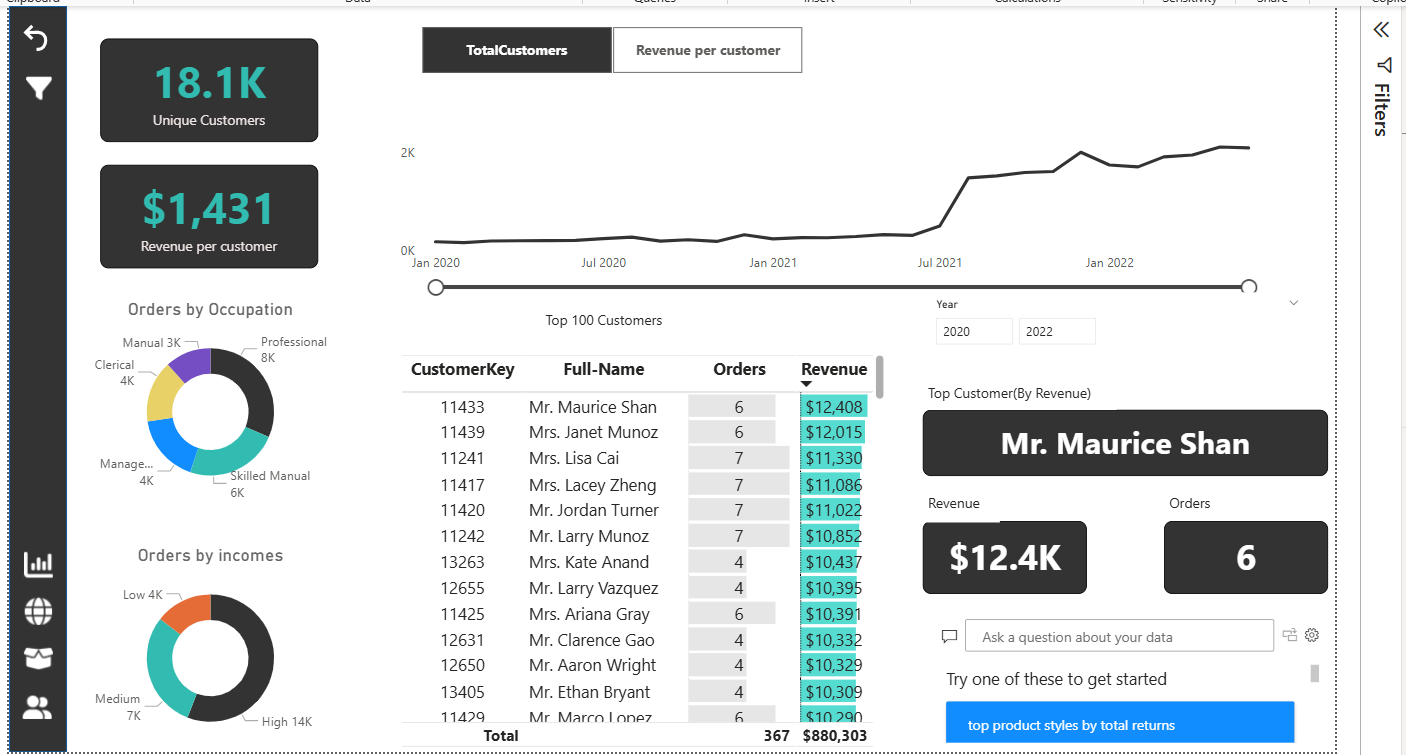

Layout of this report page (visuals, bound fields, positions):
{"tool":"powerbi","page":{"name":"Customer-Detail Dashboard","canvas":[1280,720],"ordinal":3},"visuals":[{"type":"tableEx","fields":{"Values":["Customer Lookup.CustomerKey","Customer Lookup.Full-Name","Table.TotalOrders","Table.Total Revenue"]},"box":[372.9,331.4,477.1,388.6],"z":0},{"type":"card","fields":{"Values":["Table.Top Customer"]},"box":[881.4,390,391.4,64.3],"z":0,"group":"g2"},{"type":"actionButton","title":"Dashboard Icon","box":[0,520.8,56.8,36.3],"z":0,"group":"g1"},{"type":"card","fields":{"Values":["Table.Top Customer Revenue"]},"box":[881.4,497.1,158.6,70],"z":1000,"group":"g2"},{"type":"donutChart","title":"Orders by incomes","fields":{"Y":["Table.TotalOrders"],"Category":["Customer Lookup.category incomes"]},"box":[75.7,520,237.1,200],"z":1000},{"type":"actionButton","title":"Map Icon","box":[0,567.1,56.8,34.7],"z":1000,"group":"g1"},{"type":"donutChart","title":"Orders by Occupation","fields":{"Y":["Table.TotalOrders"],"Category":["Customer Lookup.Occupation"]},"box":[75.7,282.9,237.1,200],"z":2000},{"type":"card","fields":{"Values":["Table.Top Customer Orders"]},"box":[1114.3,497.1,158.6,70],"z":2000,"group":"g2"},{"type":"actionButton","title":"Costomer Icon","box":[1.6,658.1,52.1,36.3],"z":2000,"group":"g1"},{"type":"actionButton","box":[0,0,100,40],"z":3000},{"type":"textbox","box":[881.4,360,187.1,30],"z":3000,"group":"g2"},{"type":"actionButton","title":"product icon","box":[0,611.8,56.8,36.3],"z":3000,"group":"g1"},{"type":"card","fields":{"Values":["Table.Revenue per customer"]},"box":[88.6,152.9,210,100],"z":4000},{"type":"textbox","box":[1114.3,465.7,94.3,31.4],"z":4000,"group":"g2"},{"type":"card","fields":{"Values":["Table.Unique Customers"]},"box":[88.6,31.4,210,100],"z":5000},{"type":"textbox","box":[881.4,465.7,74.3,32.9],"z":5000,"group":"g2"},{"type":"slicer","fields":{"Values":["Customer Metrics Parameter.Customer Metrics Parameter"]},"box":[372.9,12.9,417.1,58.6],"z":6000},{"type":"lineChart","fields":{"Y":["Table.TotalCustomers"],"Category":["Calendar Lookup.StartOfMonth"]},"box":[372.9,80,852.9,202.9],"z":7000},{"type":"shape","title":"Side Bar","box":[-0.4,0,56.3,720.4],"z":8000},{"type":"group","id":"g1","title":"Icons","box":[0,520.8,56.8,173.6],"z":9000},{"type":"actionButton","box":[8.2,13.2,47.8,34.6],"z":10000},{"type":"actionButton","title":"Filter Icon","box":[6.3,63,45.8,33.3],"z":11000},{"type":"qnaVisual","box":[891.4,567.1,381.4,152.9],"z":12000},{"type":"group","id":"g2","title":"Group 1","box":[881.4,360,391.4,207.1],"z":13000},{"type":"textbox","box":[512.9,288.6,137.1,30],"z":14000},{"type":"slicer","fields":{"Values":["Calendar Lookup.Year"]},"box":[881.4,275.7,375.7,84.3],"z":15000}]}

Visuals, with their boxes on the page's 1280x720 design canvas (x1, y1, x2, y2). These are canvas units, not pixel positions in the 1406x755 screenshot, which may show the page scaled, cropped or inside an application window:
tableEx - Customer Lookup.CustomerKey x Customer Lookup.Full-Name: [373,331,850,720]
card - Table.Top Customer: [881,390,1273,454]
"Dashboard Icon" actionButton: [0,521,57,557]
card - Table.Top Customer Revenue: [881,497,1040,567]
"Orders by incomes" donutChart: [76,520,313,720]
"Map Icon" actionButton: [0,567,57,602]
"Orders by Occupation" donutChart: [76,283,313,483]
card - Table.Top Customer Orders: [1114,497,1273,567]
"Costomer Icon" actionButton: [2,658,54,694]
actionButton: [0,0,100,40]
textbox: [881,360,1068,390]
"product icon" actionButton: [0,612,57,648]
card - Table.Revenue per customer: [89,153,299,253]
textbox: [1114,466,1209,497]
card - Table.Unique Customers: [89,31,299,131]
textbox: [881,466,956,499]
slicer - Customer Metrics Parameter.Customer Metrics Parameter: [373,13,790,72]
lineChart - Table.TotalCustomers x Calendar Lookup.StartOfMonth: [373,80,1226,283]
"Side Bar" shape: [0,0,56,720]
"Icons" group: [0,521,57,694]
actionButton: [8,13,56,48]
"Filter Icon" actionButton: [6,63,52,96]
qnaVisual: [891,567,1273,720]
"Group 1" group: [881,360,1273,567]
textbox: [513,289,650,319]
slicer - Calendar Lookup.Year: [881,276,1257,360]
